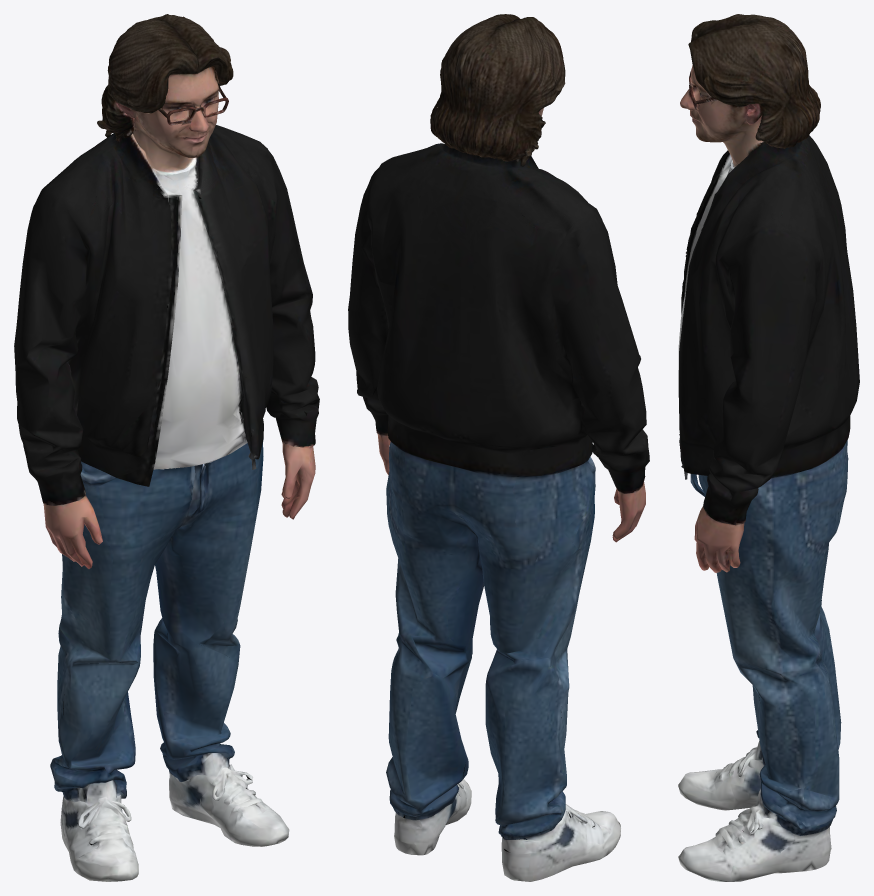
File: aidan.glb
3 views of the same model, side by side, from view 1: azimuth 30°, elevation 25°; view 2: azimuth 150°, elevation 25°; view 3: azimuth 270°, elevation 25° (orthographic).
Visible parts, largest first — view 1: tommy; view 2: tommy; view 3: tommy.
Boxes of the visible parts, x1=… form: tommy: x1=14, y1=14, x2=319, y2=881; tommy: x1=348, y1=14, x2=649, y2=881; tommy: x1=678, y1=14, x2=859, y2=881.
Size of the model in its own units: 0.6542 by 1.78 by 0.3601.
Materials: 1 (1 with a texture image).
